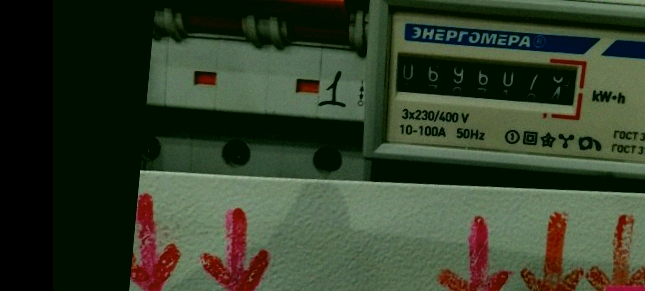0: (500, 65, 517, 88), (400, 58, 416, 81)
4: (549, 82, 564, 104)
6: (425, 60, 441, 82), (475, 64, 491, 86)
7: (525, 69, 542, 91)
9: (450, 62, 465, 84)
screen: (381, 40, 592, 118)
